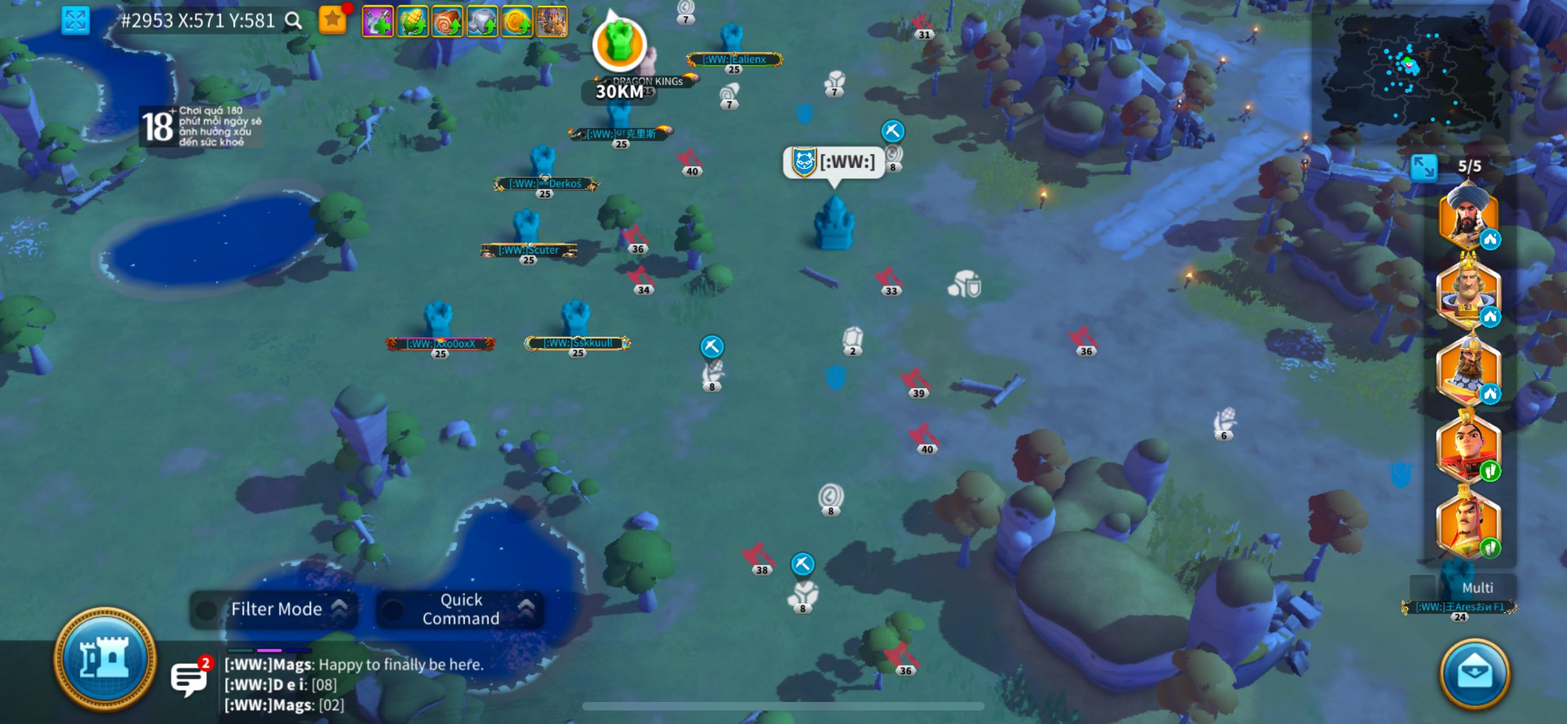gem-z-out: (841, 325, 864, 352)
march_idle: (1480, 227, 1503, 252), (1479, 305, 1502, 329), (1479, 382, 1502, 405)
march_marching: (1479, 536, 1503, 560), (1478, 460, 1502, 483)
